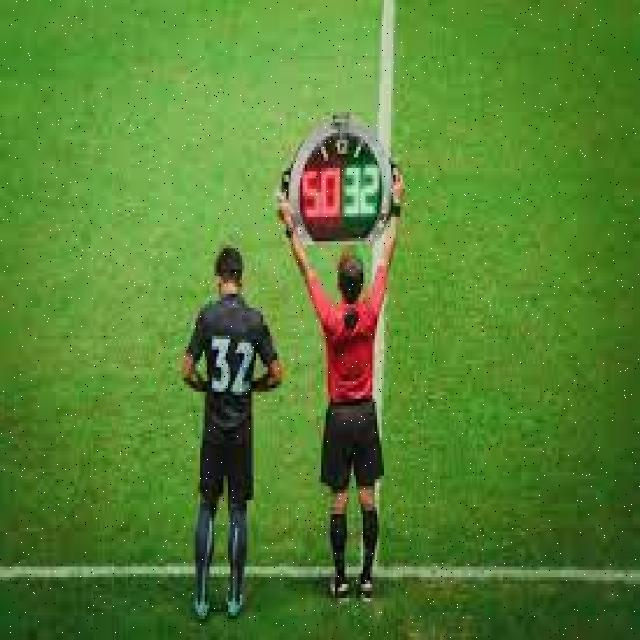substitution: (274, 108, 408, 248)
